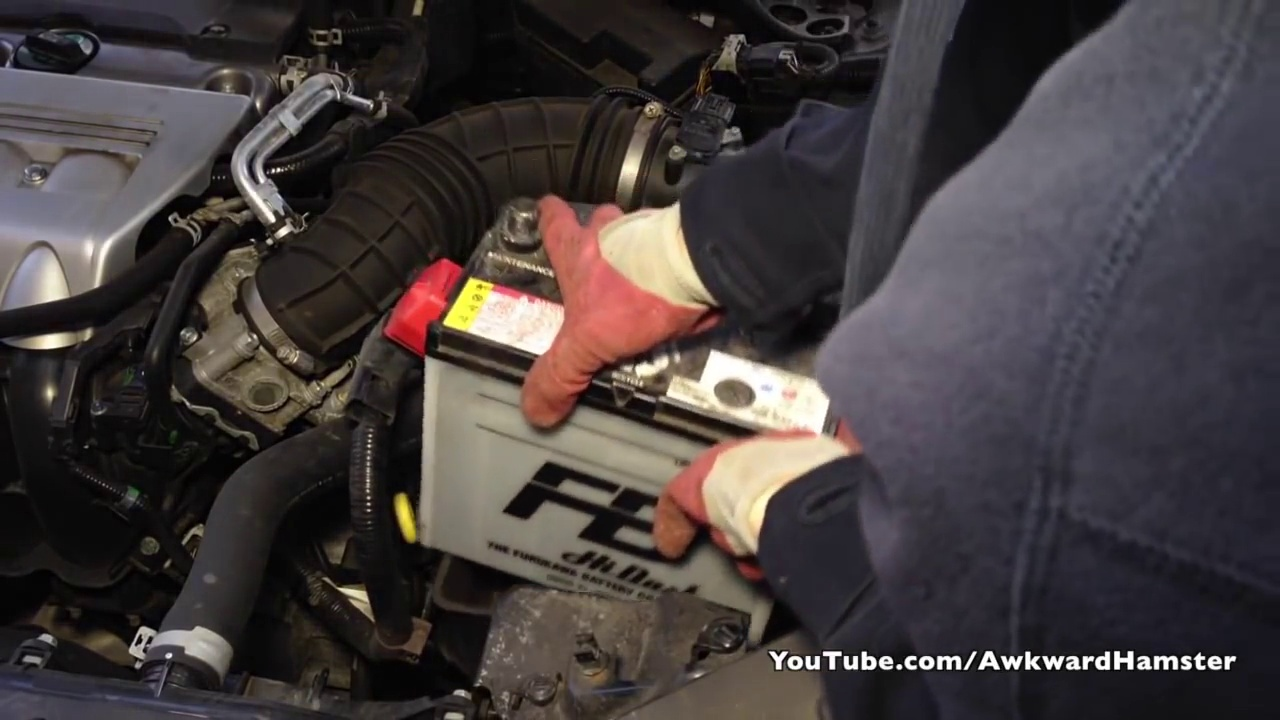battery: (449, 190, 840, 453)
